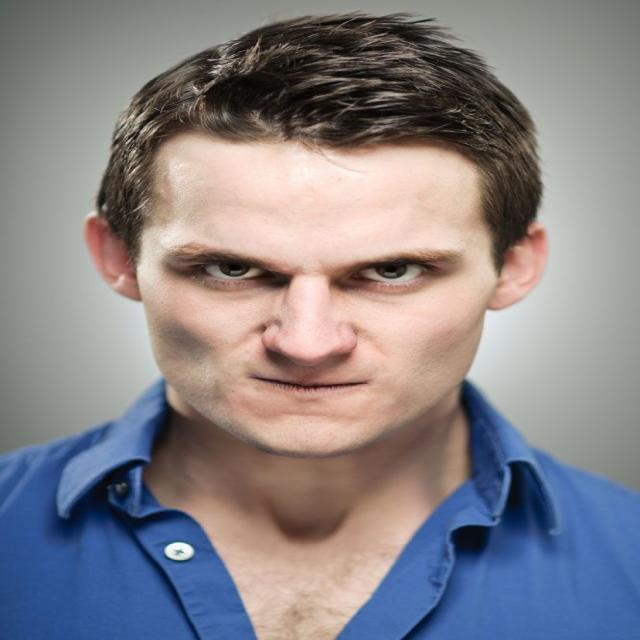sem_oculos: (85, 203, 579, 302)
